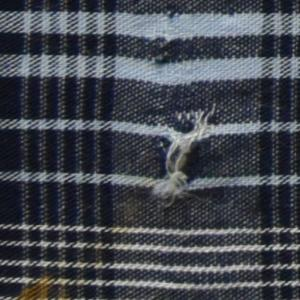Damage: (146, 1, 240, 213)
Oil Stain: (1, 202, 138, 300)
